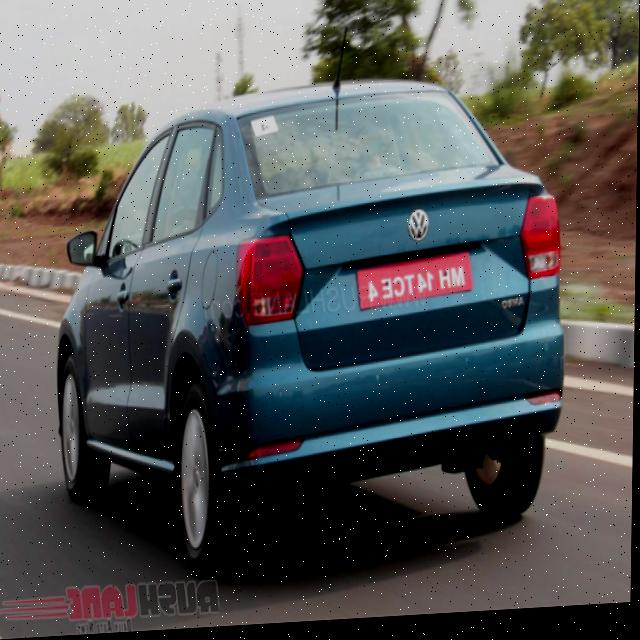plate: (358, 254, 476, 316)
